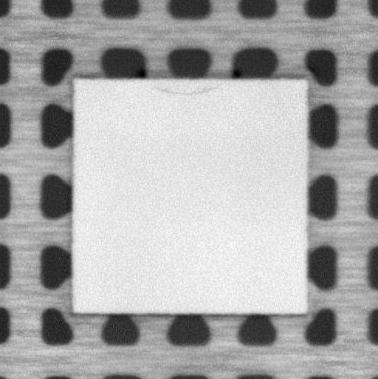DIE_CRACK: (151, 81, 221, 97)
